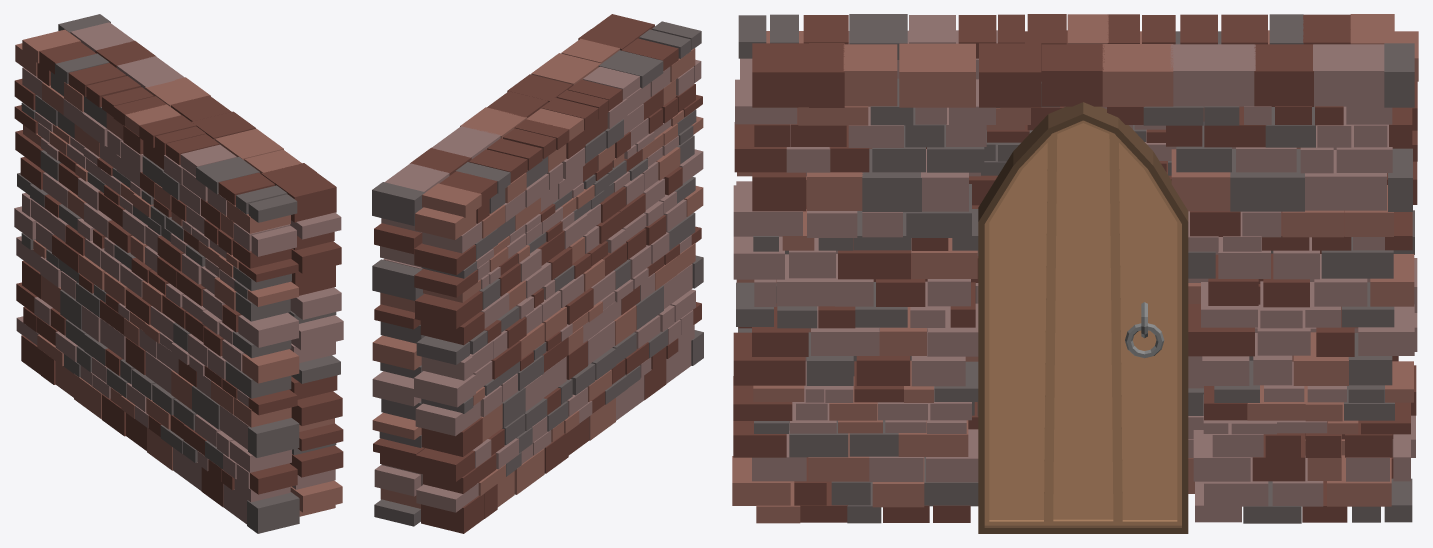
The model's file is BrickWallDoor.fbx.
The picture shows the model from 3 angles, left to right: view 1: azimuth 30°, elevation 25°; view 2: azimuth 150°, elevation 25°; view 3: azimuth 270°, elevation 25°; orthographic projection. The views are drawn at different scales.
Parts seen in each view (by area): view 1: BrickWallDoor; view 2: BrickWallDoor; view 3: BrickWallDoor.
Boxes of the visible parts, <box> form: BrickWallDoor: <box>14,14,343,533</box>; BrickWallDoor: <box>372,14,703,533</box>; BrickWallDoor: <box>732,14,1418,533</box>.
Bounding box in the file's own units: 80.91 × 235 × 324.
